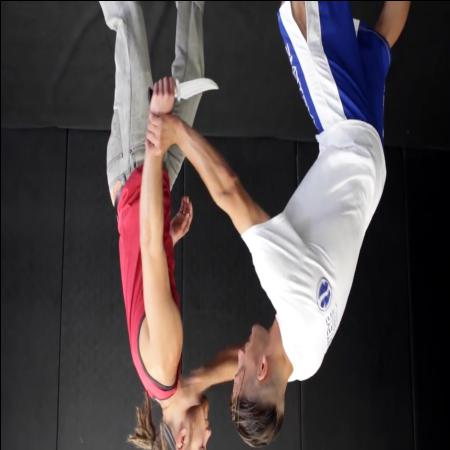long weapon: (142, 66, 223, 112)
